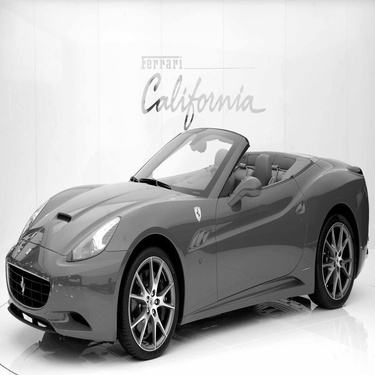car: (6, 124, 367, 366)
